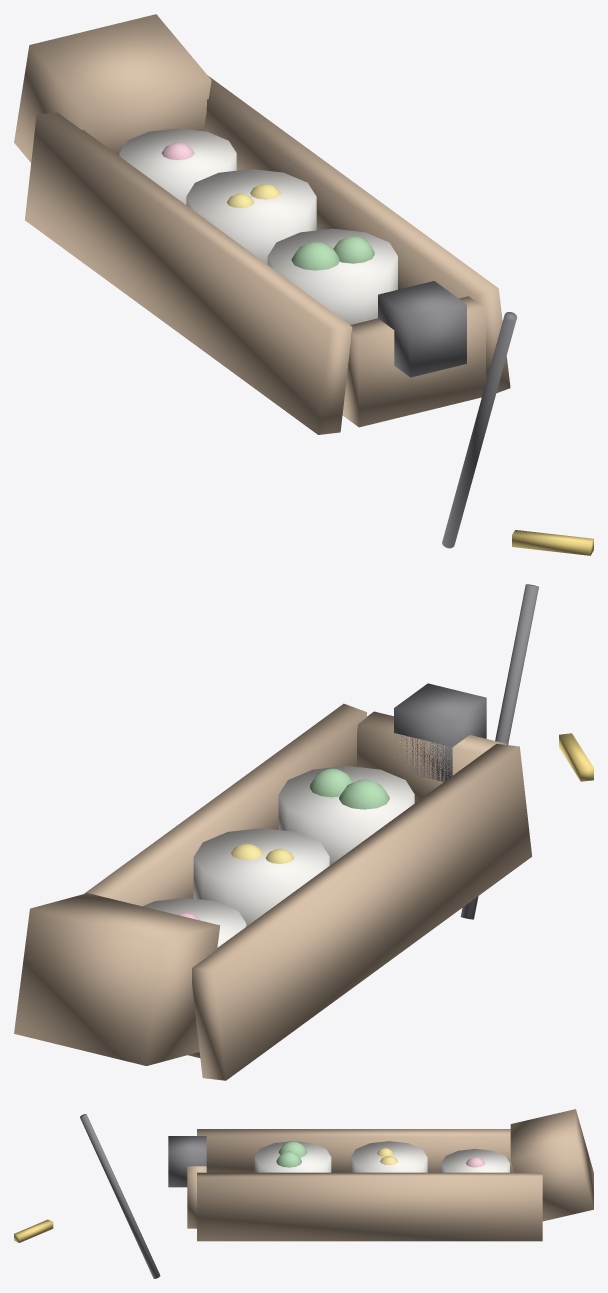
File: floating_market_boat.glb
The picture shows the model from 3 angles, top to bottom: view 1: azimuth 30°, elevation 25°; view 2: azimuth 150°, elevation 25°; view 3: azimuth 270°, elevation 25°; orthographic projection. The views are drawn at different scales.
Visible parts, largest first — view 1: hull_l, hull_bow, hull_r, hull_stern, basket2, basket1, motor_engine, basket3, motor_shaft, propeller, fruit1_1, fruit1_2; view 2: hull_l, hull_bow, hull_r, basket2, basket1, motor_engine, hull_stern, motor_shaft, basket3, fruit1_1, propeller, fruit1_2; view 3: hull_r, hull_l, hull_bow, basket2, basket1, motor_engine, motor_shaft, basket3, hull_stern, propeller, fruit1_2, fruit1_1.
Boxes of the visible parts, box(x1,y1,x2,y2) form: hull_l: box(25, 112, 352, 434); hull_bow: box(14, 14, 211, 162); hull_r: box(203, 75, 510, 393); hull_stern: box(342, 296, 485, 427); basket2: box(186, 169, 316, 264); basket1: box(267, 228, 397, 324); motor_engine: box(378, 281, 466, 377); basket3: box(119, 128, 236, 204); motor_shaft: box(442, 312, 516, 548); propeller: box(512, 530, 593, 555); fruit1_1: box(291, 241, 339, 270); fruit1_2: box(333, 236, 374, 263); hull_l: box(192, 743, 531, 1080); hull_bow: box(14, 893, 220, 1065); hull_r: box(84, 703, 366, 906); basket2: box(193, 828, 329, 926); basket1: box(278, 766, 414, 865); motor_engine: box(394, 683, 486, 781); hull_stern: box(357, 711, 506, 803); motor_shaft: box(460, 584, 538, 919); basket3: box(143, 897, 246, 947); fruit1_1: box(339, 779, 389, 809); propeller: box(559, 733, 593, 781); fruit1_2: box(309, 768, 353, 797); hull_r: box(197, 1172, 542, 1241); hull_l: box(197, 1129, 513, 1172); hull_bow: box(510, 1109, 593, 1221); basket2: box(350, 1141, 427, 1172); basket1: box(254, 1141, 331, 1172); motor_engine: box(168, 1136, 206, 1187); motor_shaft: box(80, 1114, 160, 1278); basket3: box(441, 1148, 509, 1172); hull_stern: box(187, 1166, 206, 1228); propeller: box(14, 1219, 53, 1242); fruit1_2: box(276, 1151, 301, 1167); fruit1_1: box(278, 1141, 307, 1157).
Bounding box in the file's own units: 0.6813 × 0.9392 × 3.02.
